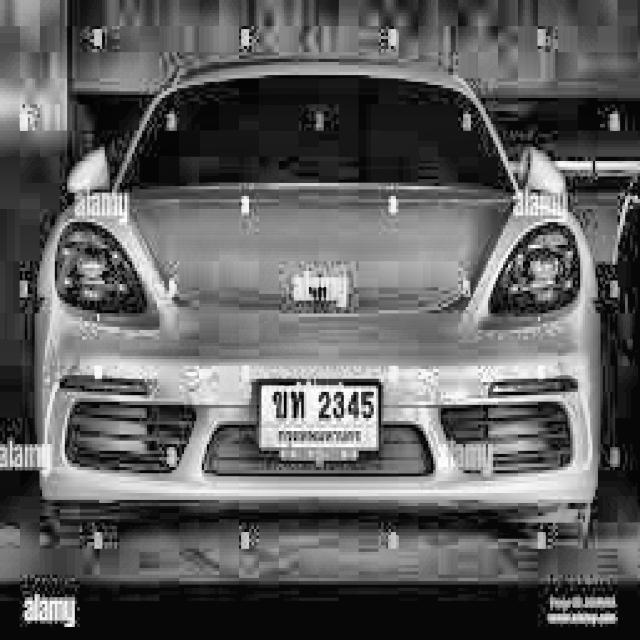license-plate: (250, 361, 387, 474)
